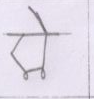e_matra: (28, 7, 53, 33)
